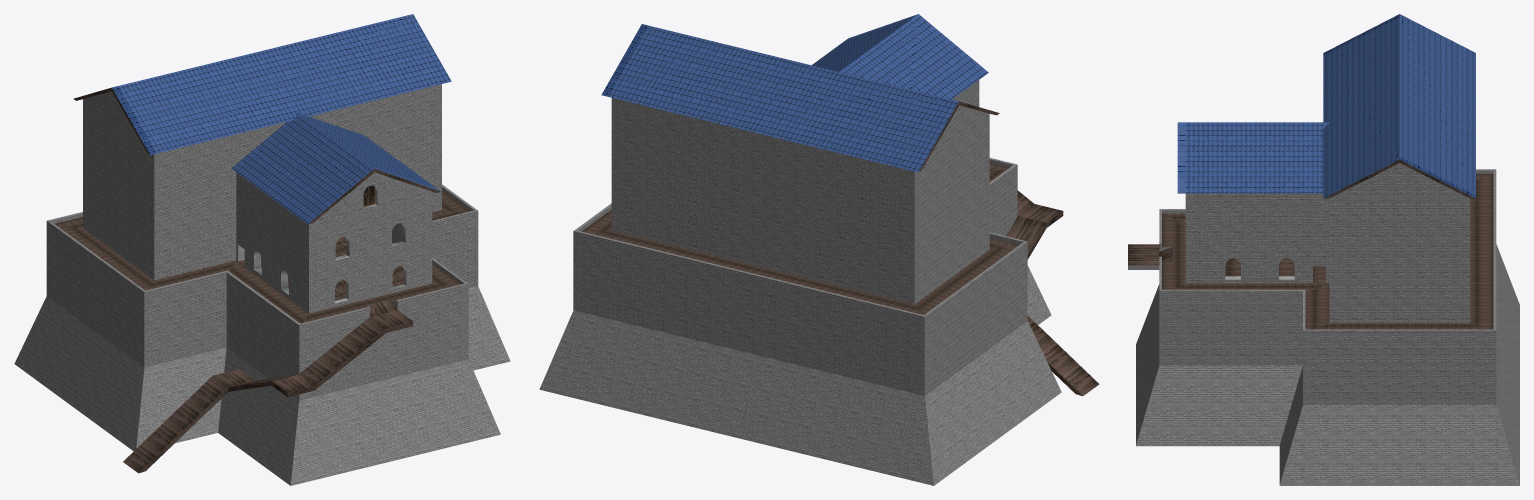
Rendered from HeadQuarters3.fbx.
The picture shows the model from 3 angles, left to right: view 1: azimuth 30°, elevation 25°; view 2: azimuth 150°, elevation 25°; view 3: azimuth 270°, elevation 25°; orthographic projection. The views are drawn at different scales.
Visible parts, largest first — view 1: HeadQuaters V3; view 2: HeadQuaters V3; view 3: HeadQuaters V3.
Part boxes in pixels (x1,y1,x2,y2): HeadQuaters V3: (14, 14, 510, 485); HeadQuaters V3: (539, 14, 1099, 485); HeadQuaters V3: (1128, 14, 1519, 485).
Size of the model in its own units: 5712 by 4383 by 5005.
